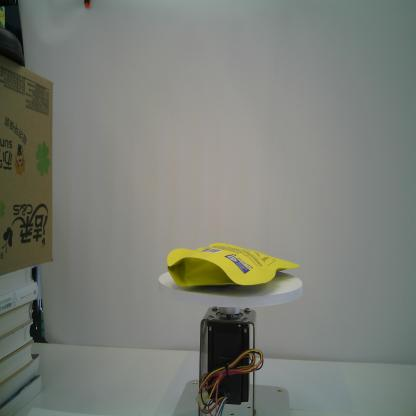Dried Fruit: (166, 242, 300, 289)
